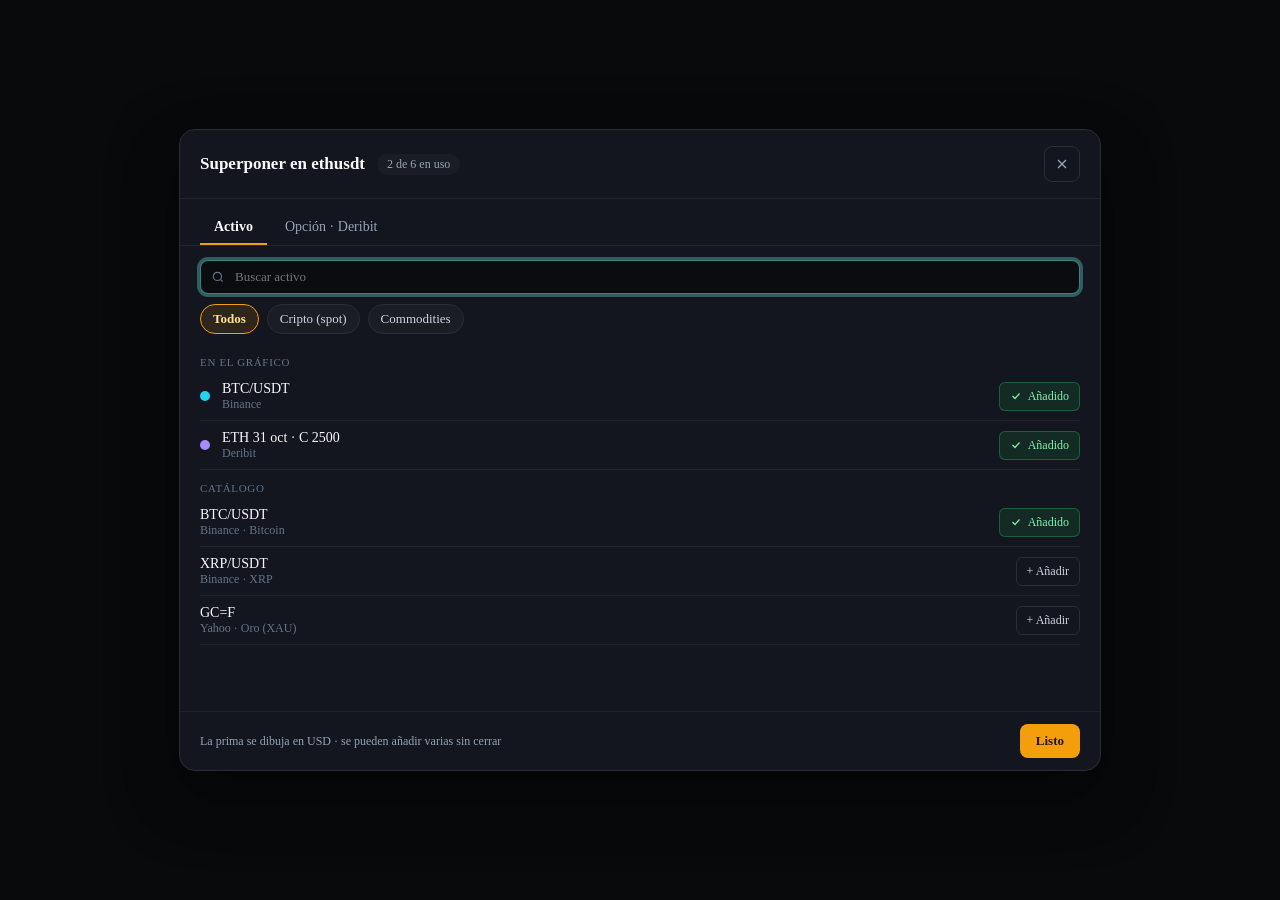
Test: OverlayPicker (escritorio) › búsqueda y categorías filtran el catálogo
This screenshot has width=1280, height=900.
Check: the text "XRP/USDT" is shown, box [200,556,268,570]
Click the button "Commodities". click: click(416, 319)
box: [368,304,464,334]
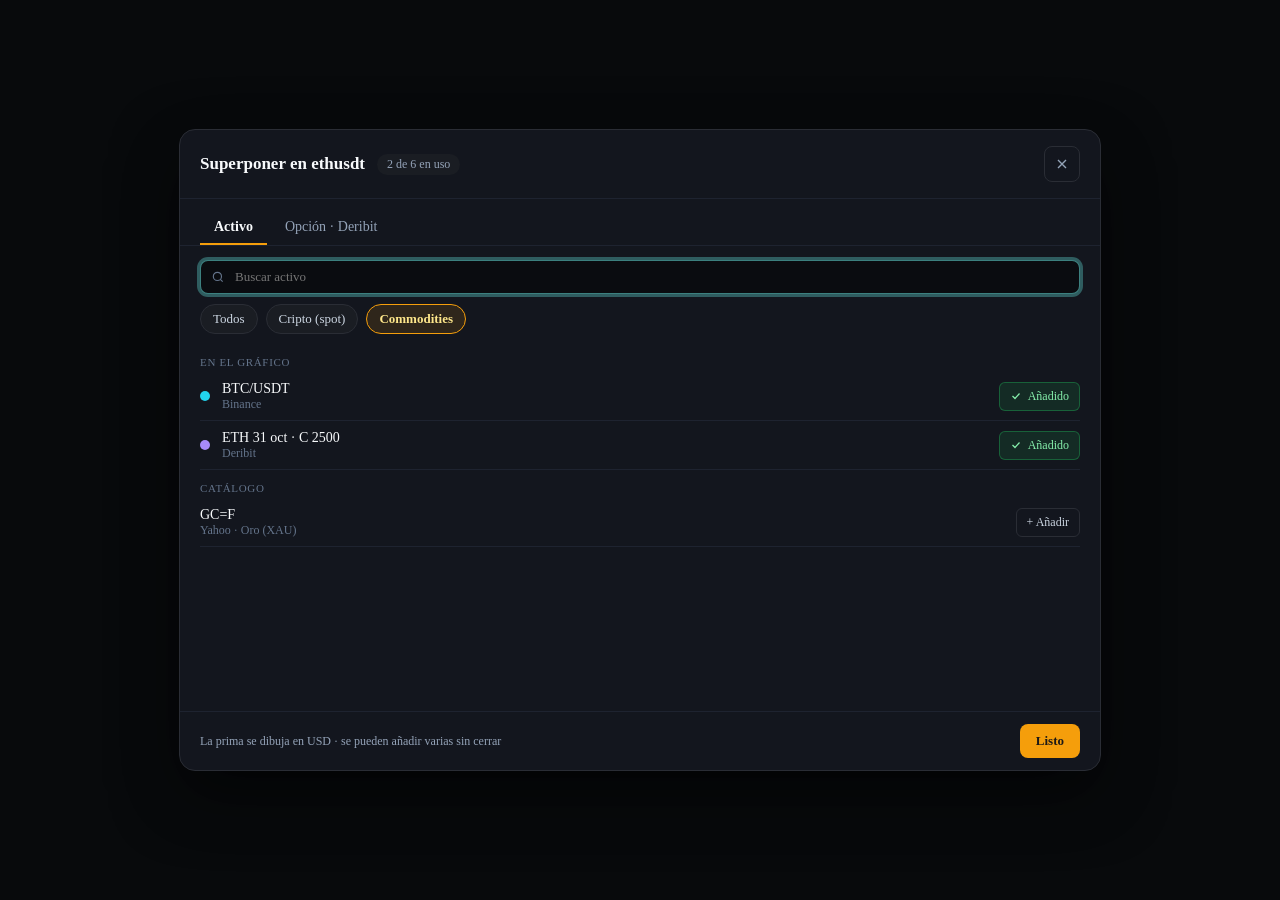
Check: the text "GC=F" is shown, box [200,506,235,522]
Check: the text "XRP/USDT" is gone
Click the button "Todos". click: click(229, 319)
box: [200,304,258,334]
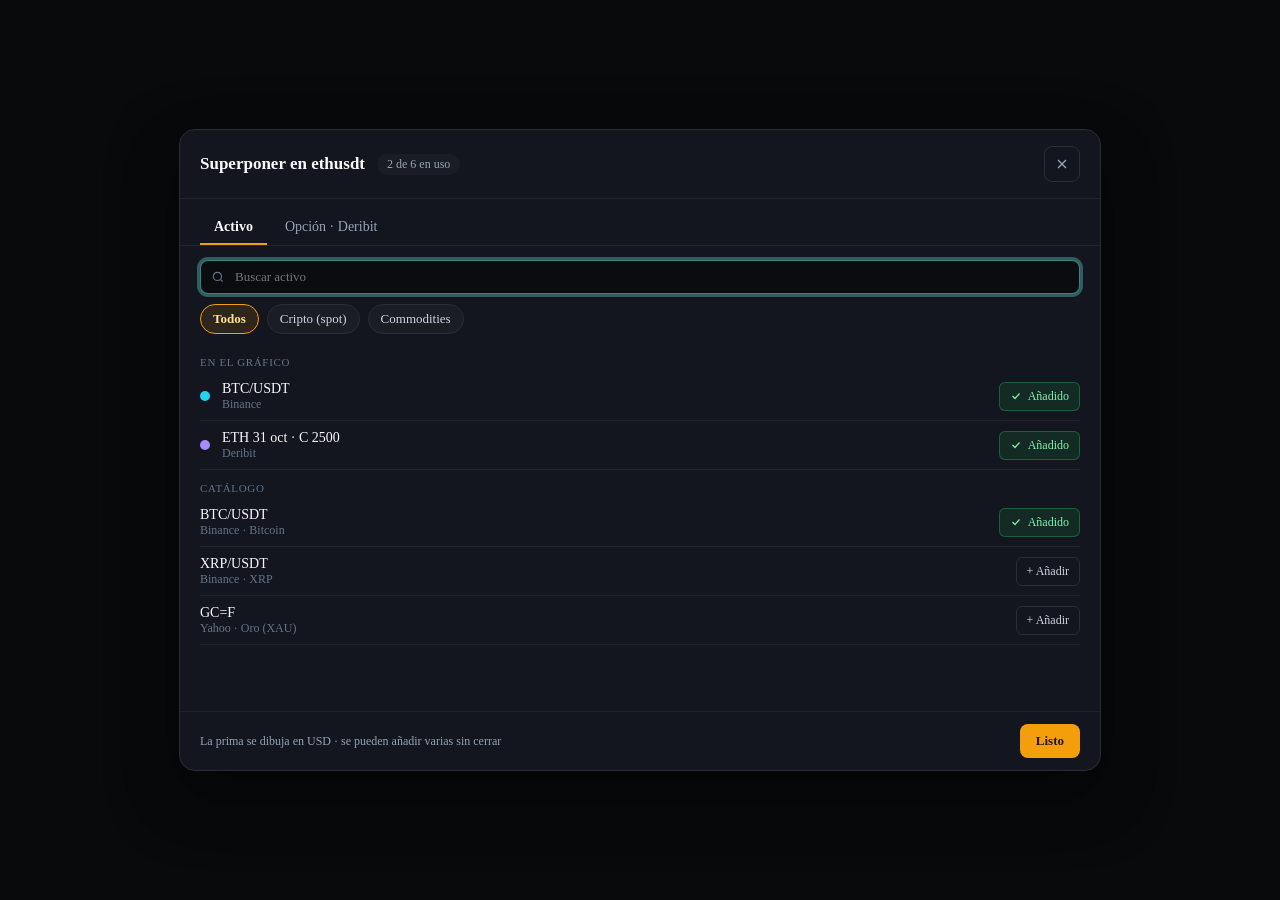
Type "xrp" into the search field with placeholder "Buscar activo". click: (651, 277)
box: [233,268,1069,286]
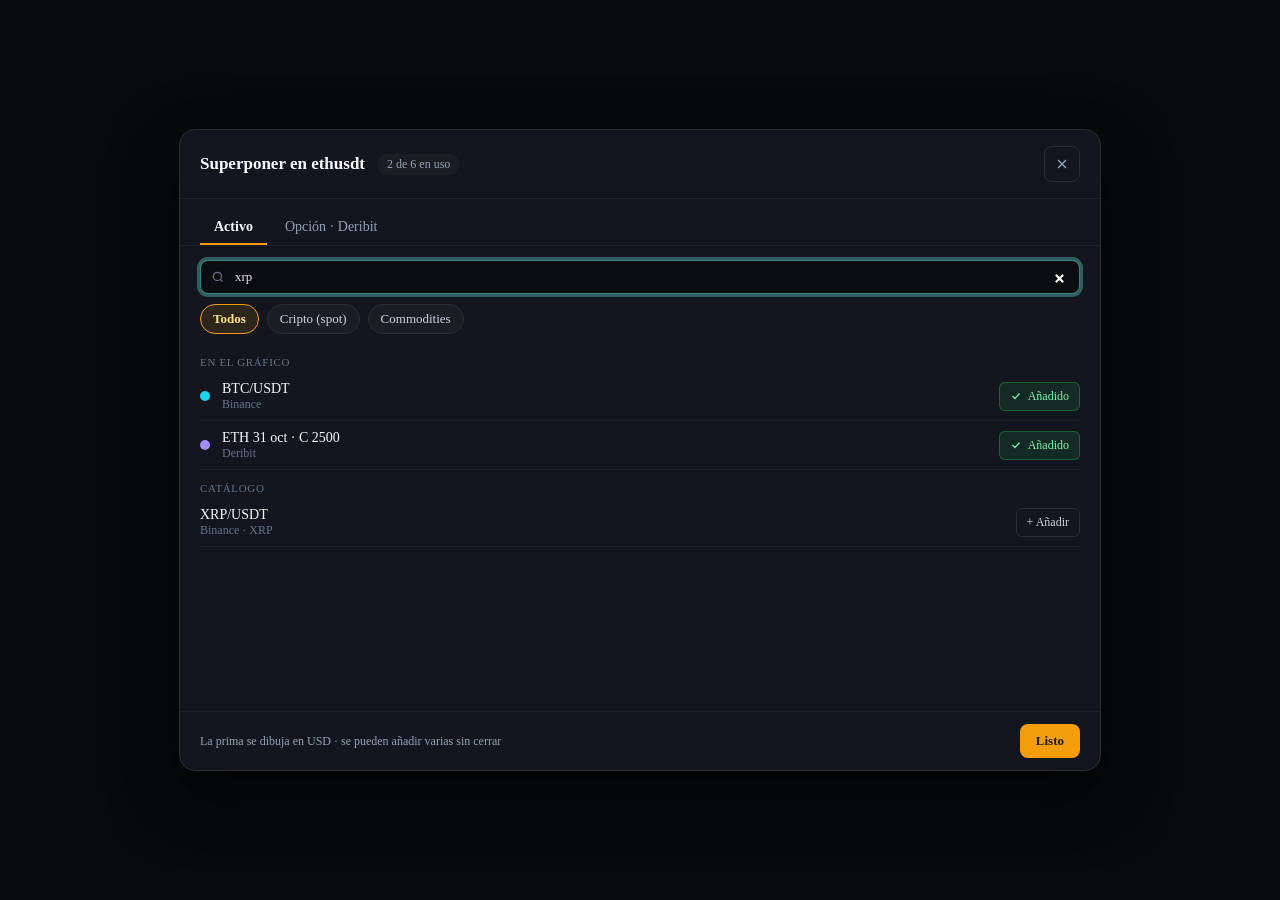
Check: the text "XRP/USDT" is shown, box [200,506,268,522]
Check: the text "GC=F" is gone
